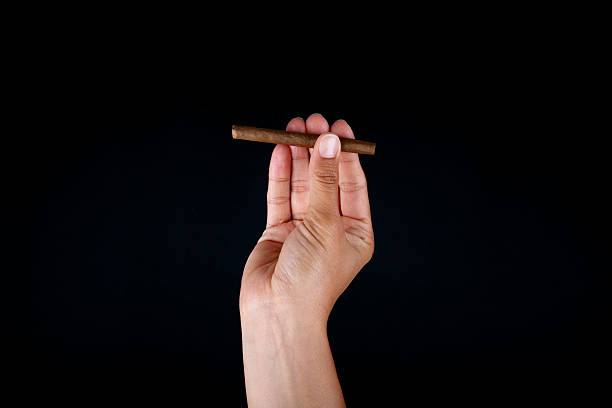cigarette: (231, 125, 377, 156)
